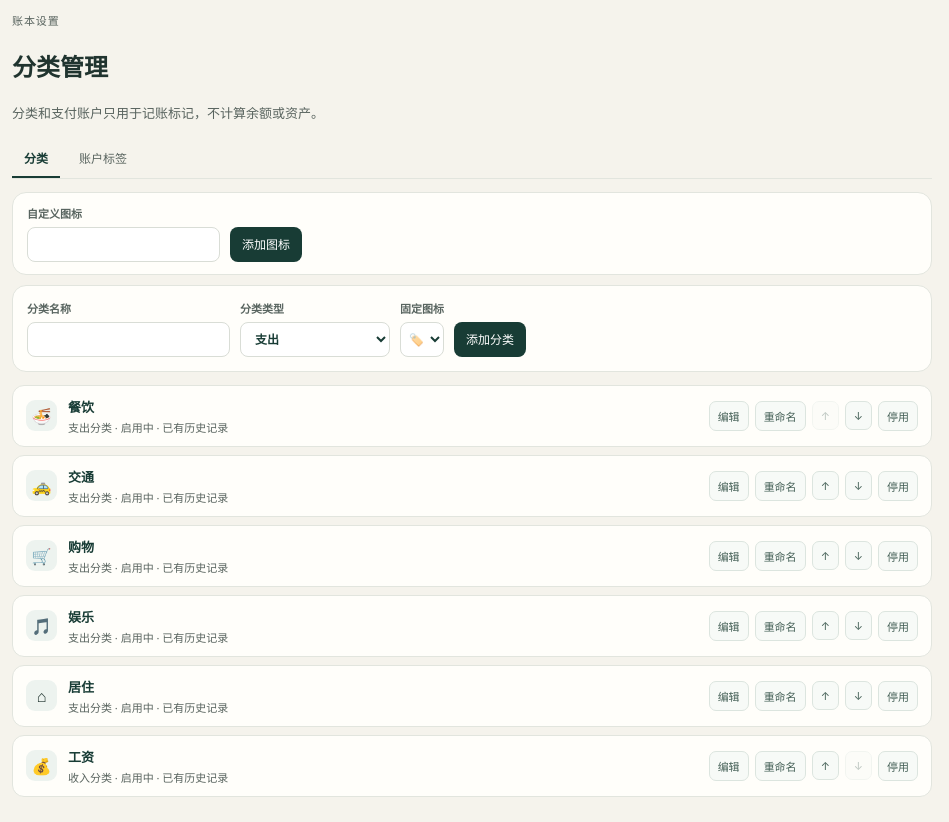
it: LabelsPage › 编辑分类会预填名称、固定图标，并只展开当前行
Click the button with aria-label "编辑 餐饮". click: {"x": 729, "y": 416}
box: [709,401,749,431]
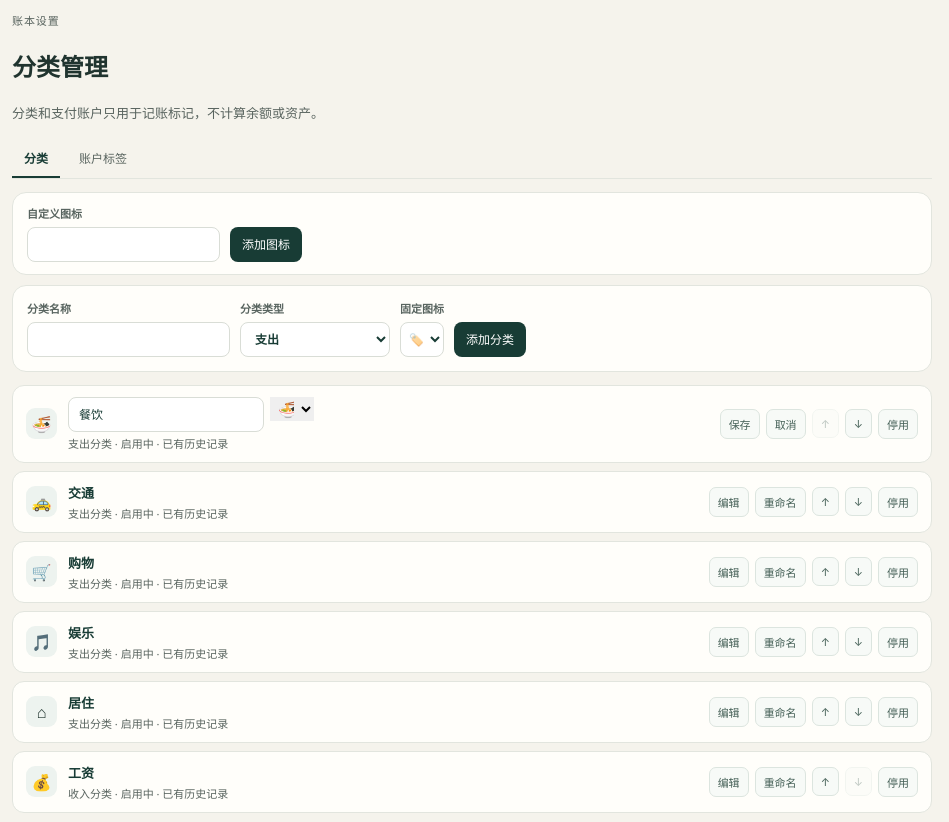
Now the field named "餐饮 分类名称" holds "餐饮", box [68,397,264,432]
Now the dropdown named "餐饮 分类图标" shows "🍜", box [270,397,314,421]
Click the button with aria-label "编辑 交通". click: {"x": 729, "y": 502}
box: [709,487,749,517]
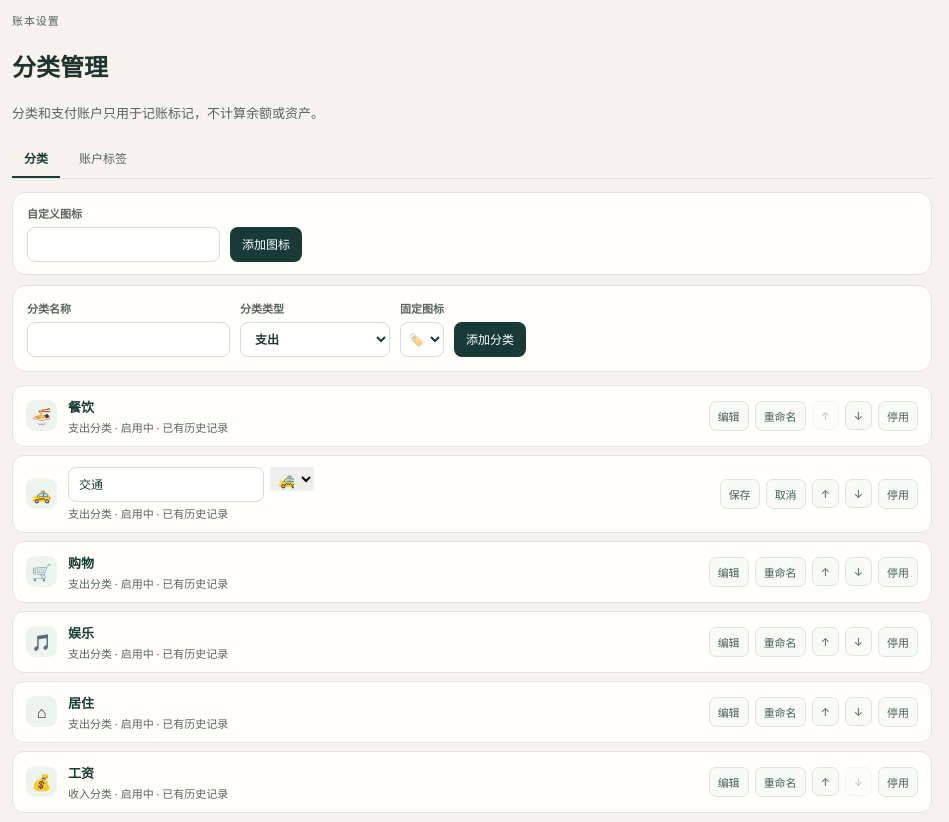
Now the field named "交通 分类名称" holds "交通", box [68,467,264,502]
